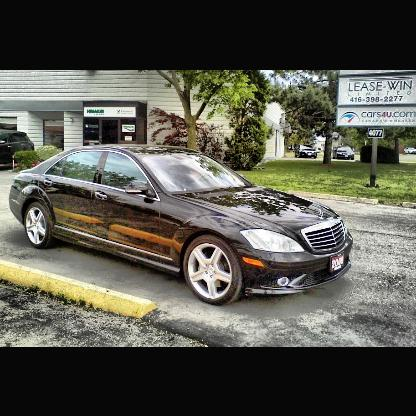Mercedes-Benz S-Class Sedan 2012: (8, 142, 355, 307)
